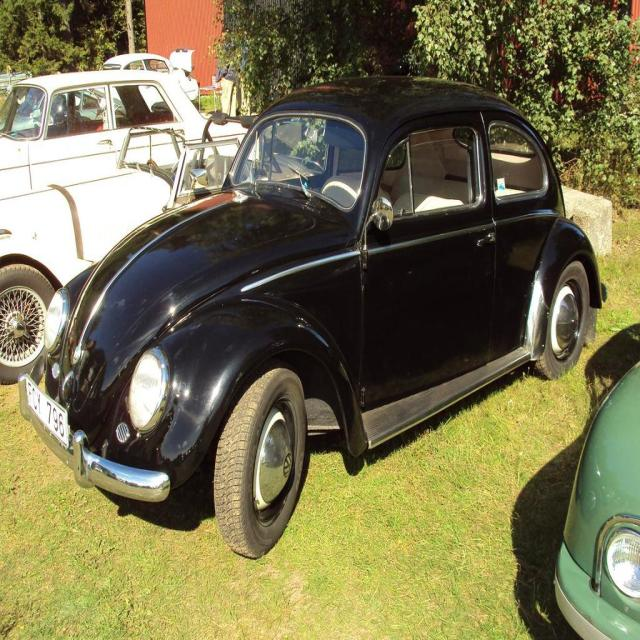car: (30, 85, 608, 553)
